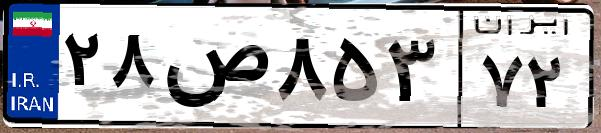2: (57, 26, 110, 100), (525, 38, 570, 115)
3: (385, 28, 445, 110)
5: (330, 28, 385, 110)
7: (475, 38, 525, 113)
8: (270, 28, 330, 110), (110, 28, 158, 98)
ص: (158, 20, 270, 120)
